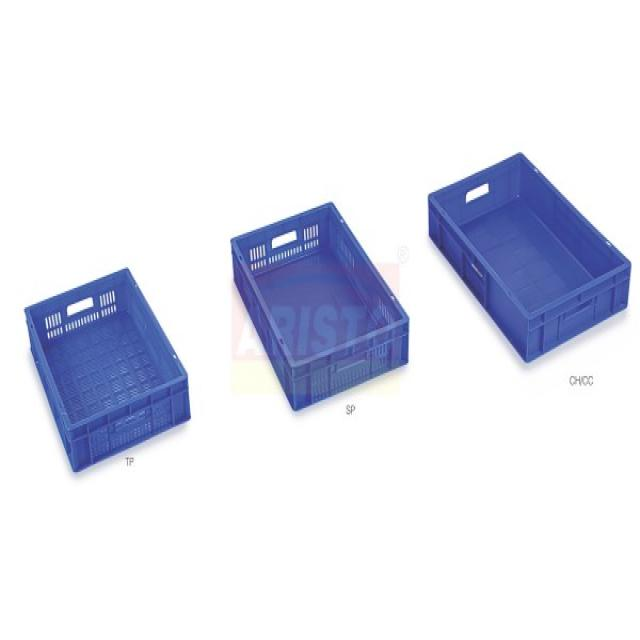basket: (219, 189, 426, 414), (1, 258, 205, 474)
